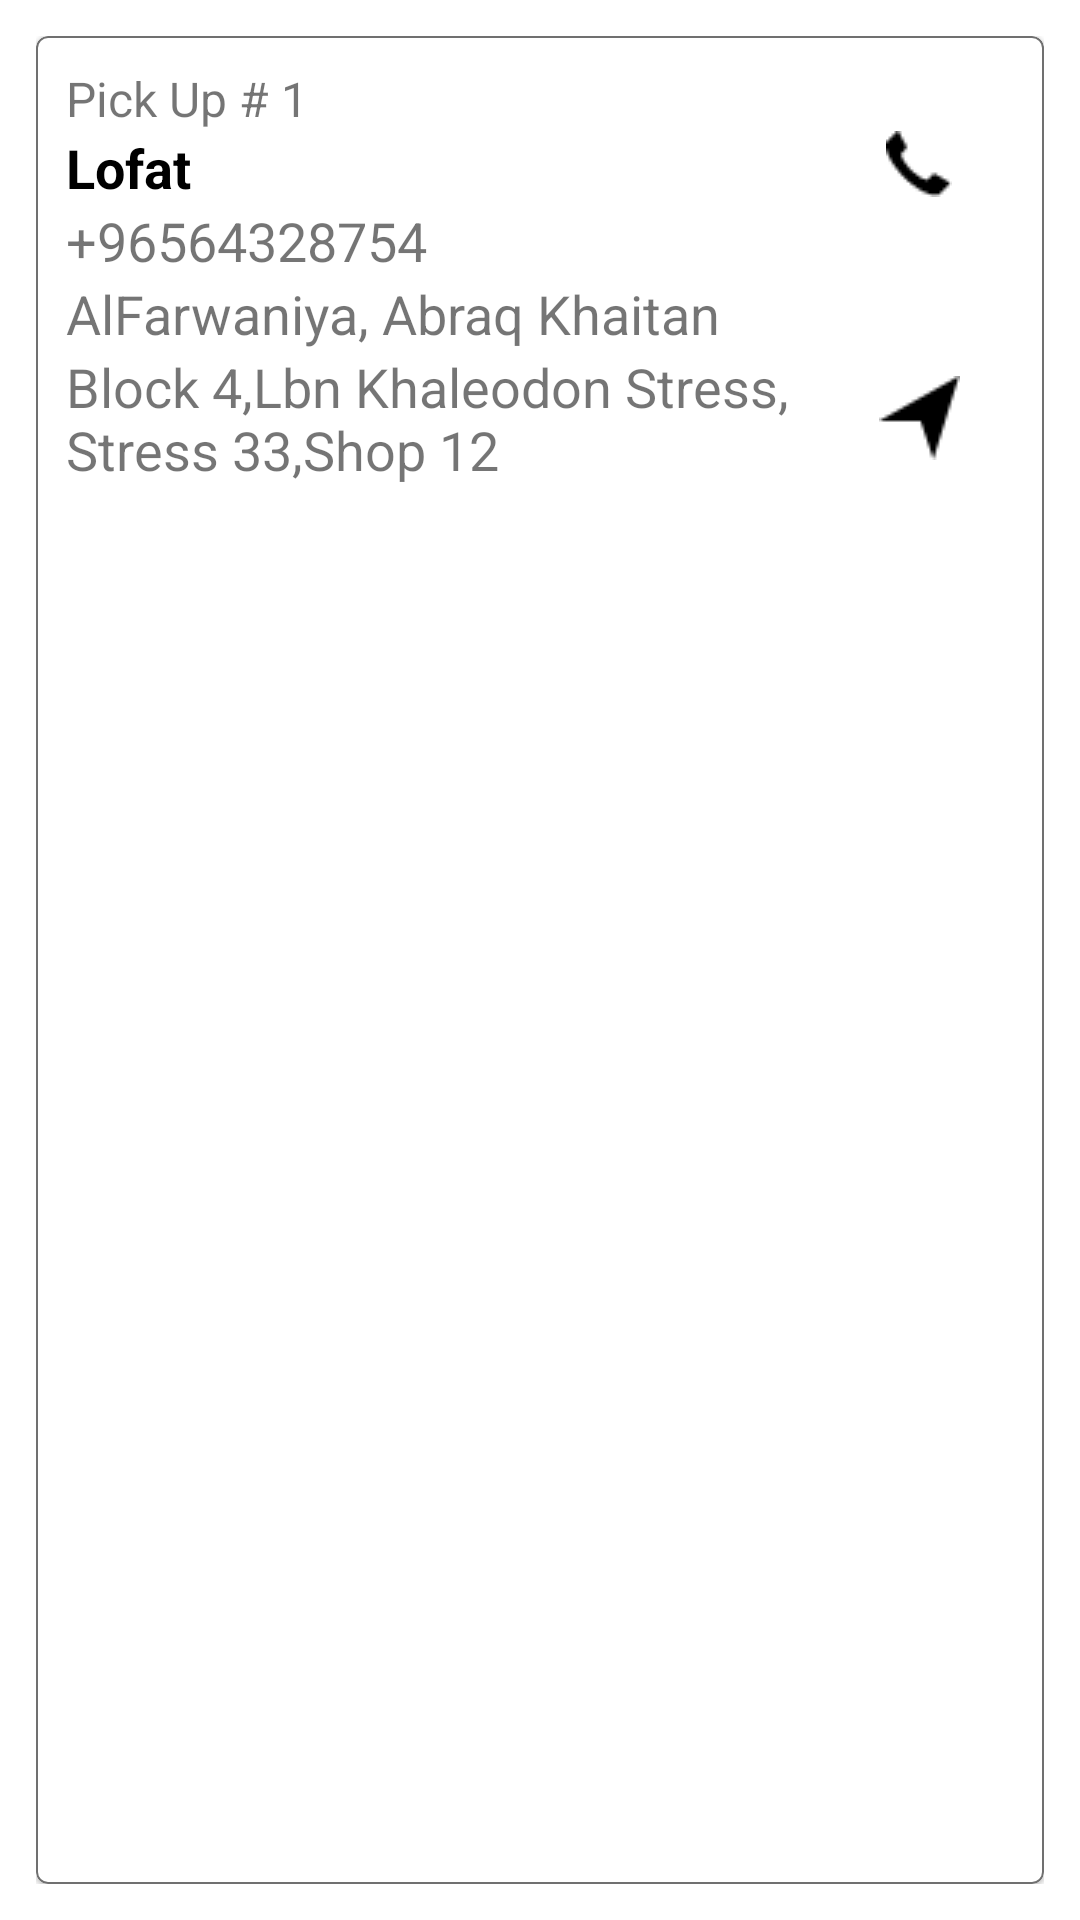

Named icons in this screenshot (1080 x 1920) and their centers, (x=x, y=y):
call: (x=919, y=164)
location: (x=919, y=418)
